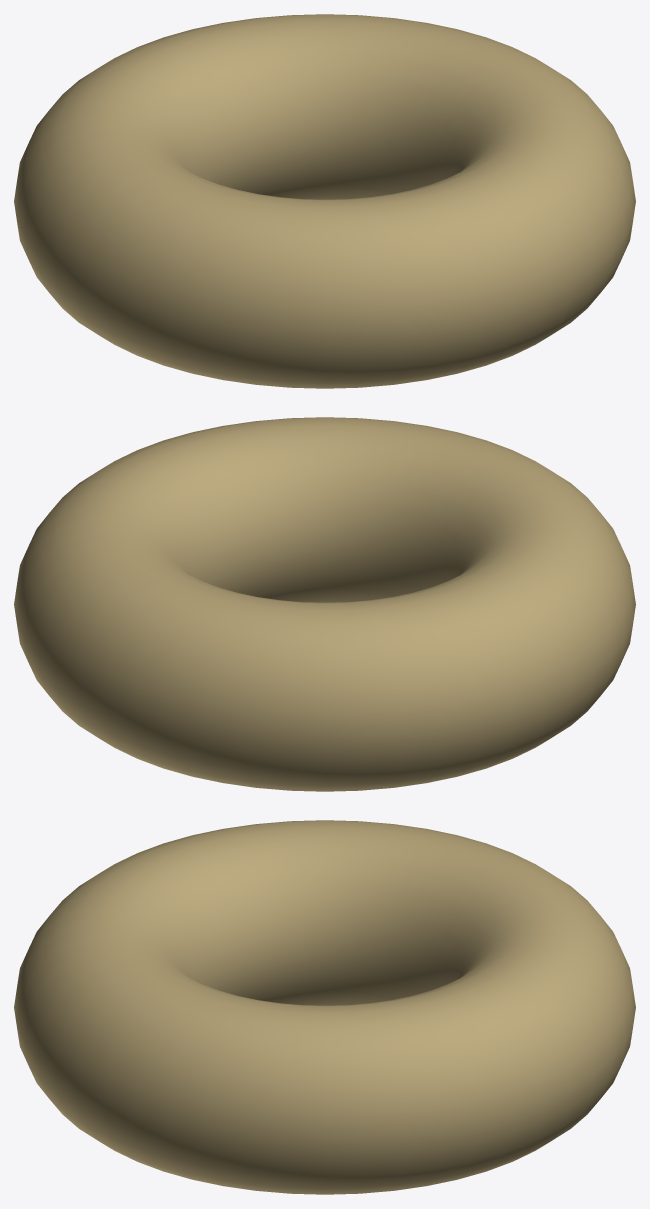
3 renders of one model, top to bottom at view 1: azimuth 30°, elevation 25°; view 2: azimuth 150°, elevation 25°; view 3: azimuth 270°, elevation 25°, orthographic.
Visible parts, largest first — view 1: Torus.035; view 2: Torus.035; view 3: Torus.035.
Part boxes in pixels (bbox=[...]): Torus.035: bbox=[14, 14, 635, 388]; Torus.035: bbox=[14, 417, 635, 791]; Torus.035: bbox=[14, 820, 635, 1194].
Size of the model in its own units: 17.32 by 5.31 by 17.32.
